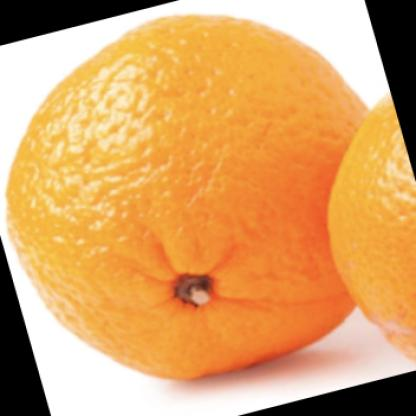fresh: (9, 16, 372, 377)
